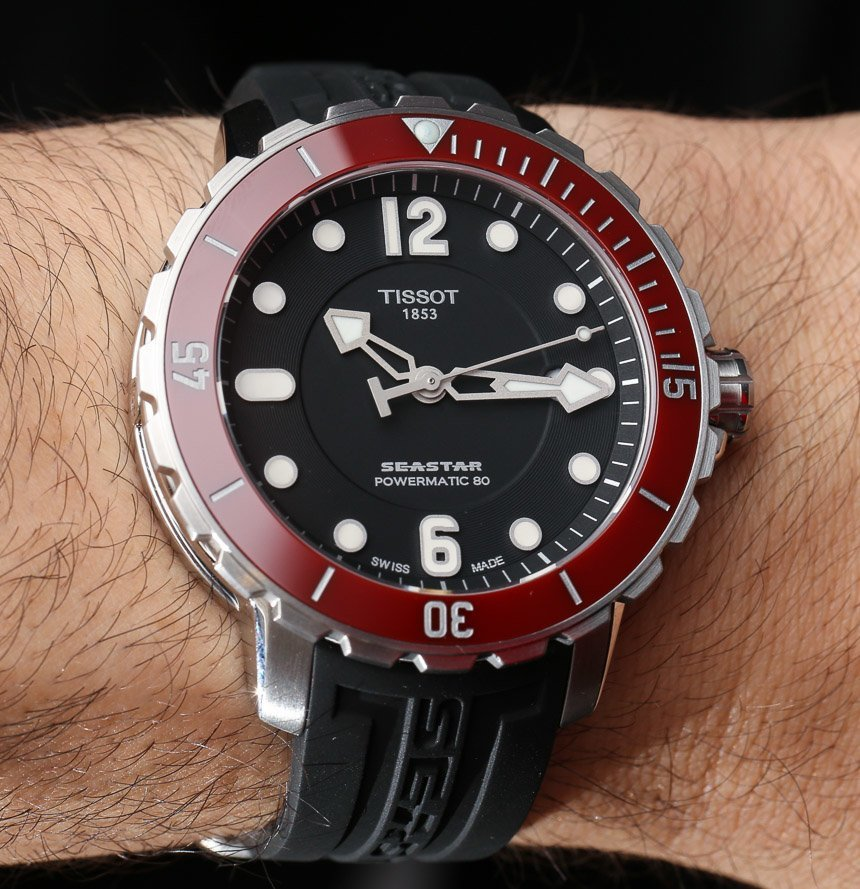clock: (133, 92, 724, 685)
